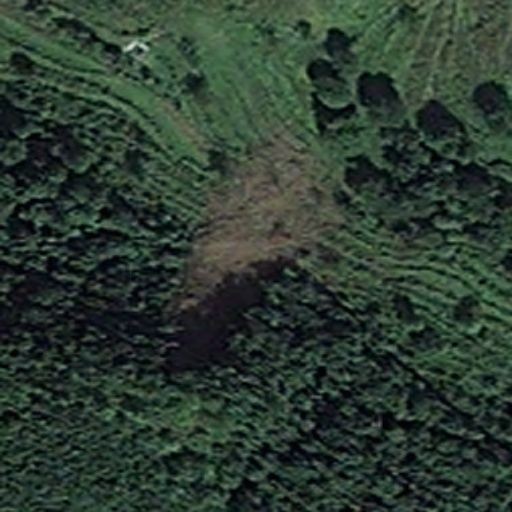landslide: (183, 146, 333, 310)
